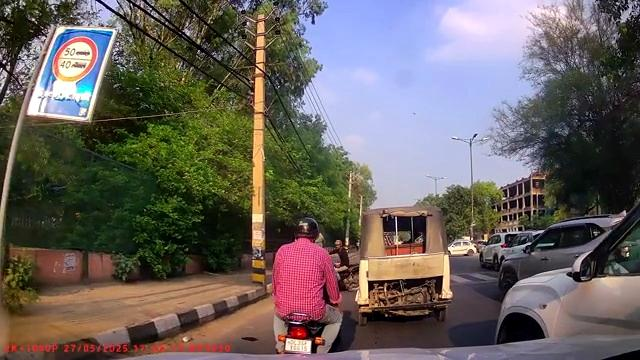motorcycle_with_helmet: (270, 215, 344, 353)
